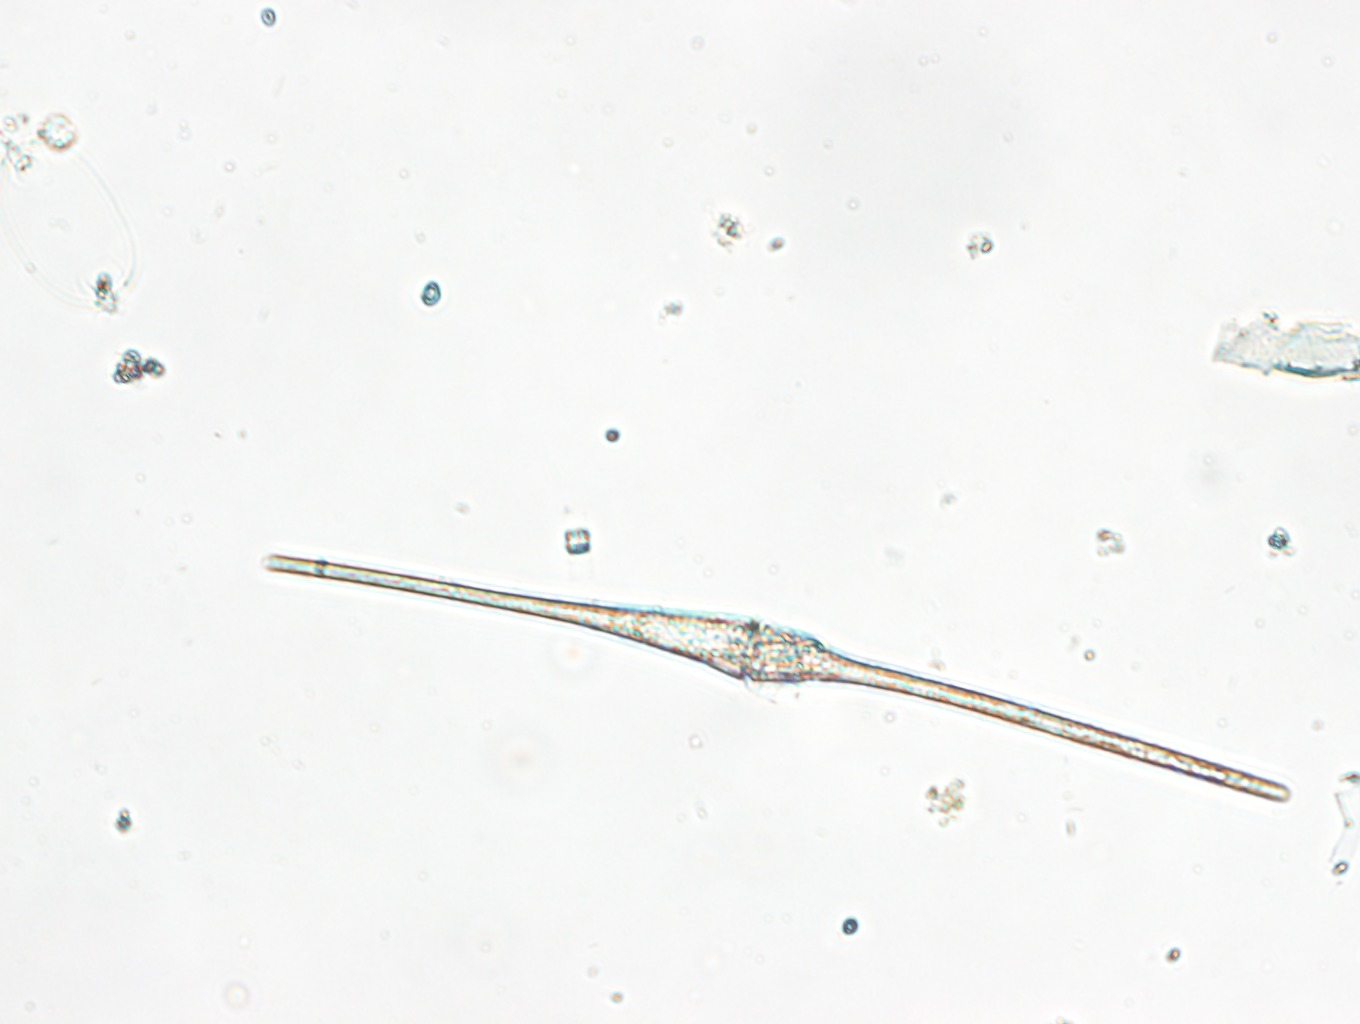ceratium fusus: (264, 553, 1295, 811)
